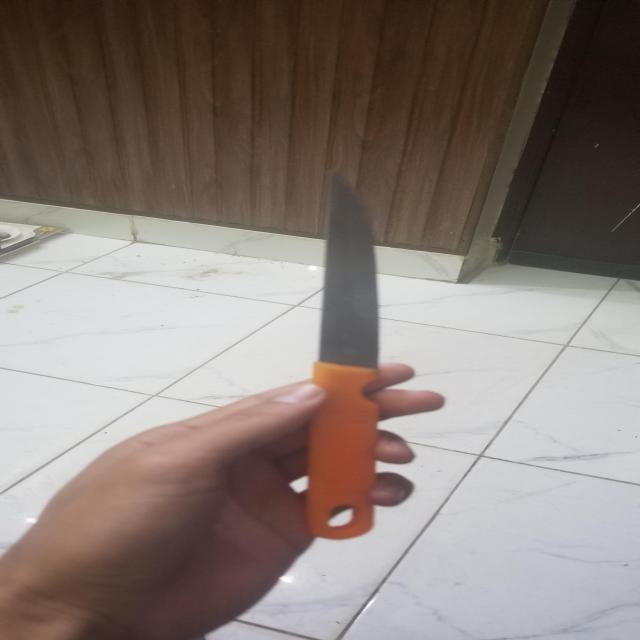Knife: (304, 172, 381, 540)
Person: (0, 361, 446, 640)
